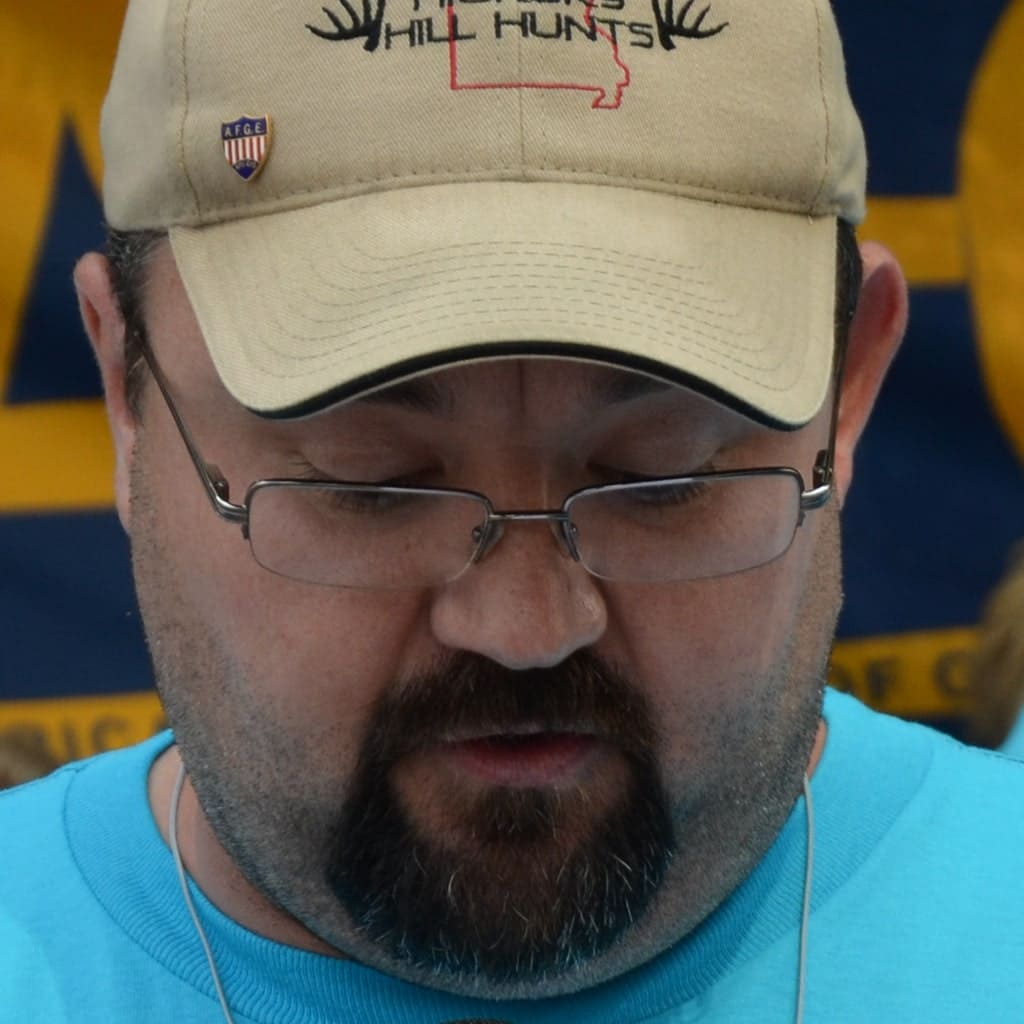without_mask: (137, 248, 864, 939)
